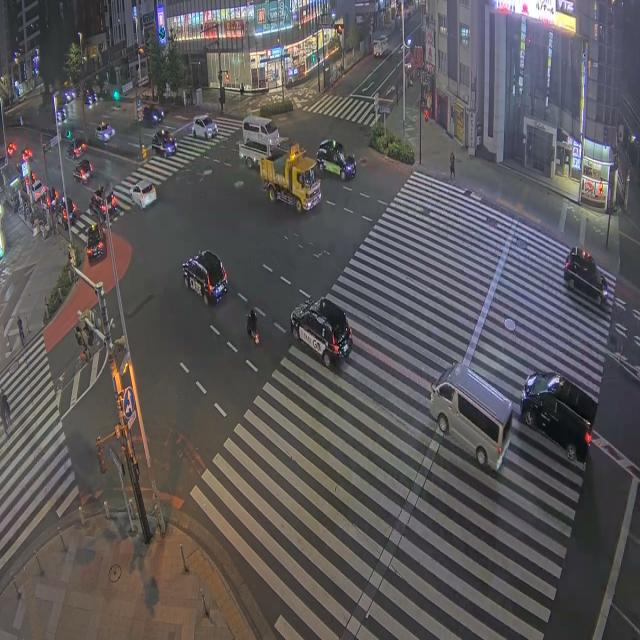car: (521, 373, 597, 463), (291, 298, 352, 367), (564, 247, 608, 306), (183, 250, 227, 304), (317, 140, 356, 180), (90, 186, 117, 223), (130, 180, 156, 209), (86, 224, 105, 261), (152, 129, 177, 156), (54, 199, 76, 228), (192, 115, 217, 139), (73, 159, 92, 183), (141, 105, 164, 124), (67, 138, 86, 159), (95, 122, 114, 142), (32, 181, 46, 201), (47, 185, 59, 206), (83, 88, 96, 106), (63, 88, 75, 103), (56, 107, 66, 122), (22, 148, 32, 161), (7, 143, 16, 157)
truck: (260, 144, 321, 211), (239, 141, 287, 167), (373, 36, 388, 56)
van: (432, 364, 512, 471), (243, 116, 279, 147), (373, 37, 388, 56)
